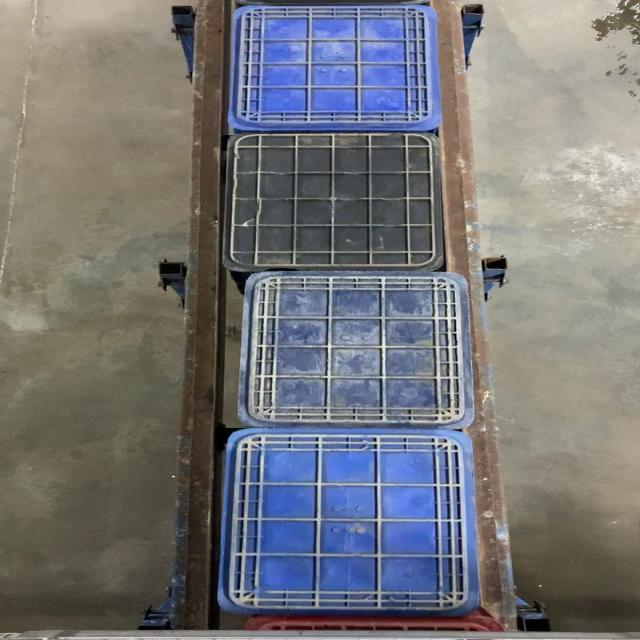Box: (216, 430, 476, 610), (238, 270, 476, 428), (229, 3, 442, 129)
Damaged_box: (221, 129, 447, 269)
